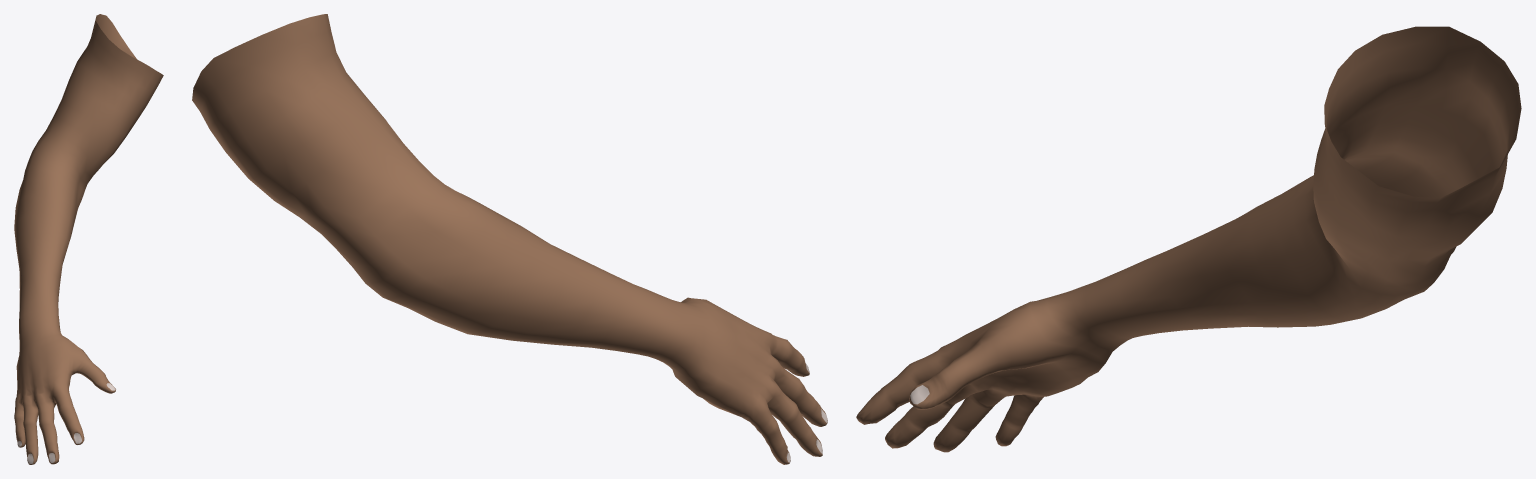
File: hand2.obj
3 renders of one model, left to right at view 1: azimuth 30°, elevation 25°; view 2: azimuth 150°, elevation 25°; view 3: azimuth 270°, elevation 25°, orthographic. The views are drawn at different scales.
Parts seen in each view (by area): view 1: basicRig:Body; view 2: basicRig:Body; view 3: basicRig:Body.
Part boxes in pixels (x1,y1,x2,y2): basicRig:Body: (14, 14, 163, 464); basicRig:Body: (192, 14, 827, 464); basicRig:Body: (856, 26, 1521, 452).
Bounding box in the file's own units: 3.68 × 4.45 × 4.4.
